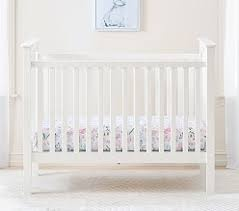crib: (22, 39, 214, 193)
